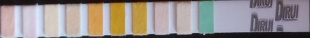color 1: (1, 7, 13, 36)
color 10: (200, 2, 212, 31)
color 2: (23, 6, 35, 35)
color 3: (45, 6, 58, 35)
color 4: (66, 6, 79, 35)
color 5: (89, 5, 101, 34)
color 6: (111, 4, 124, 34)
color 7: (133, 4, 145, 33)
color 8: (156, 3, 167, 33)
color 9: (178, 3, 190, 32)
